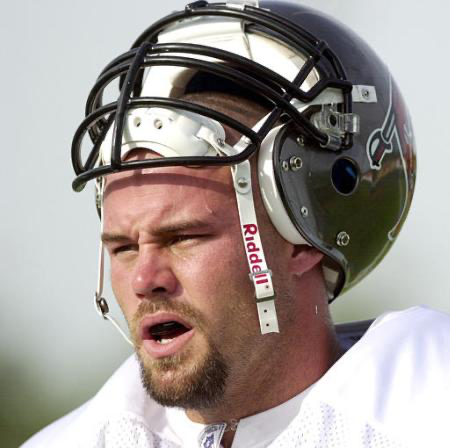Face: (90, 191, 272, 422)
